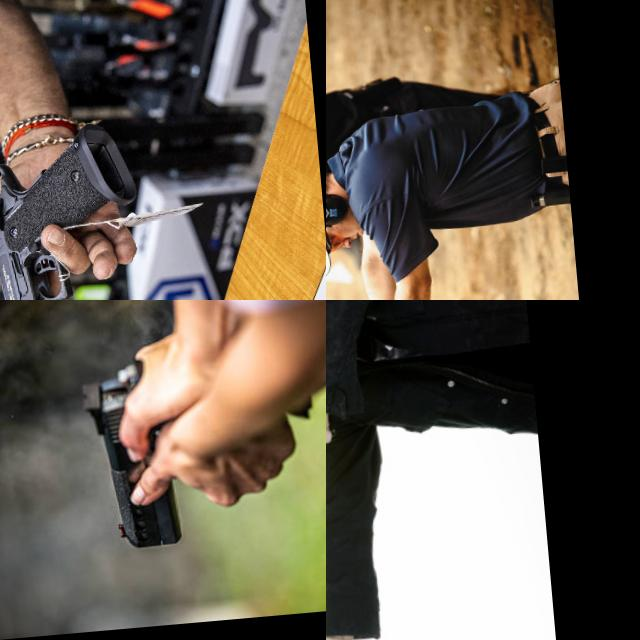handgun: (0, 119, 161, 300), (73, 345, 189, 555), (326, 404, 354, 515)
